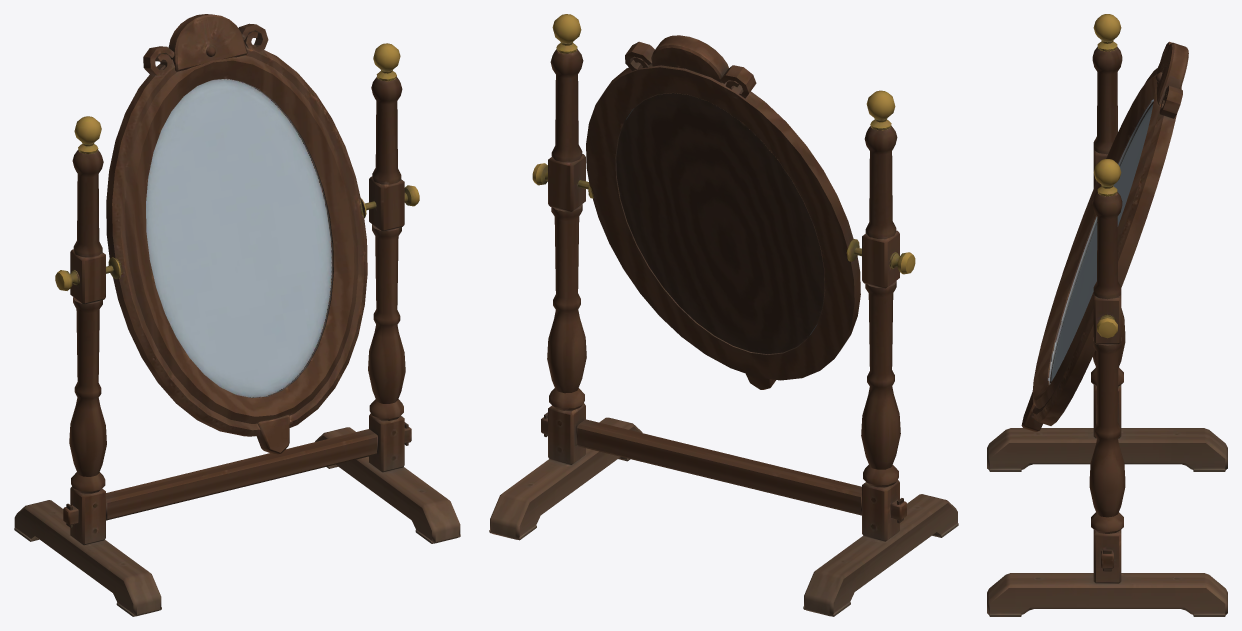
Rendered from mirror.hq.glb.
The picture shows the model from 3 angles, left to right: view 1: azimuth 30°, elevation 25°; view 2: azimuth 150°, elevation 25°; view 3: azimuth 270°, elevation 25°; orthographic projection. The views are drawn at different scales.
Parts seen in each view (by area): view 1: mirror; view 2: mirror; view 3: mirror.
Boxes of the visible parts, bbox=[...] form: mirror: bbox=[14, 14, 460, 616]; mirror: bbox=[489, 14, 958, 616]; mirror: bbox=[987, 14, 1227, 616].
Bounding box in the file's own units: 0.888 × 1.17 × 0.52.
1 material, 1 textured.
